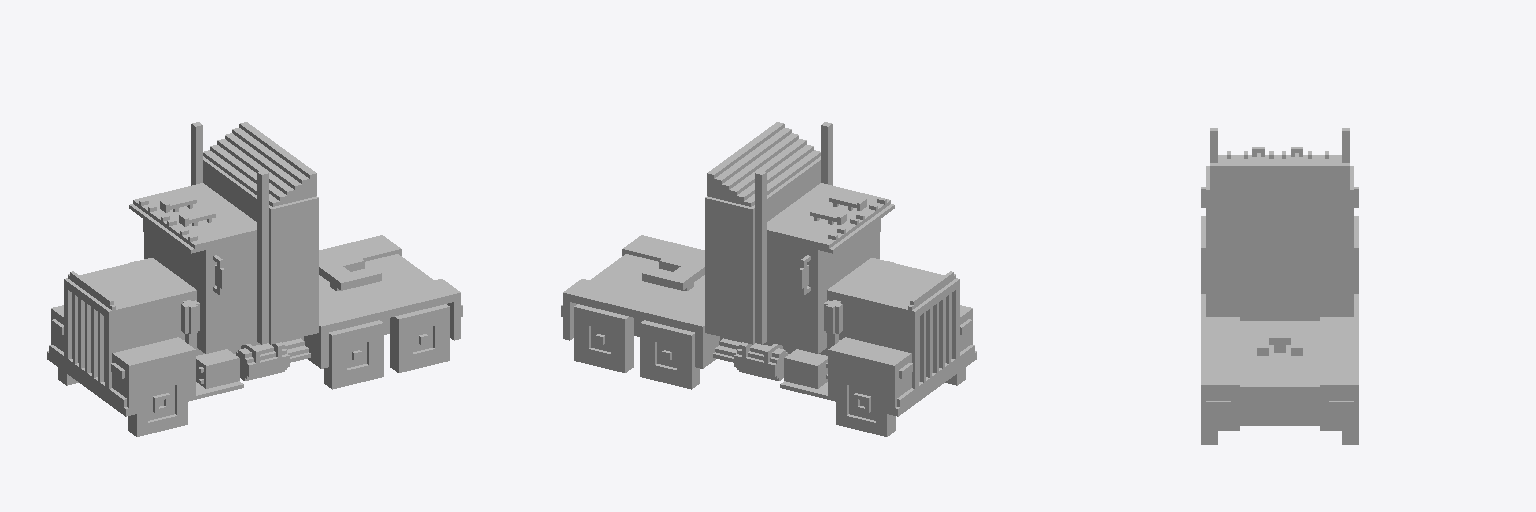
The model's file is alll cars3-141.obj.
3 views of the same model, side by side, from view 1: azimuth 30°, elevation 25°; view 2: azimuth 150°, elevation 25°; view 3: azimuth 270°, elevation 25° (orthographic).
Parts seen in each view (by area): view 1: object 1; view 2: object 1; view 3: object 1.
Part boxes in pixels (left/top/right/bottom): object 1: left=47, top=122, right=462, bottom=436; object 1: left=561, top=122, right=976, bottom=436; object 1: left=1201, top=128, right=1358, bottom=444.
Bounding box in the file's own units: 9.2 × 5.9 × 3.7.